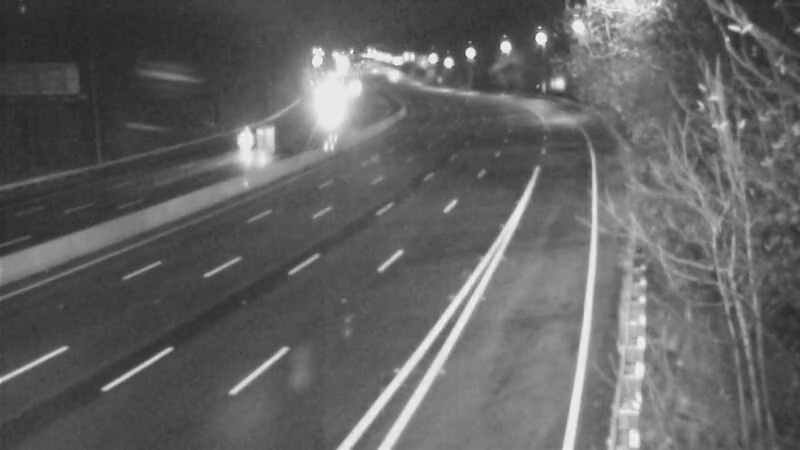vehicle: (362, 50, 412, 100), (224, 117, 274, 167), (299, 90, 349, 140)
